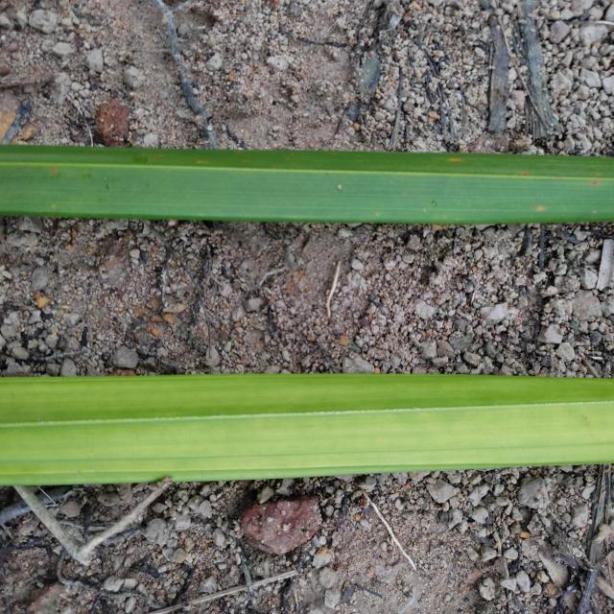nitrogen: (3, 373, 614, 490), (0, 139, 614, 229)
